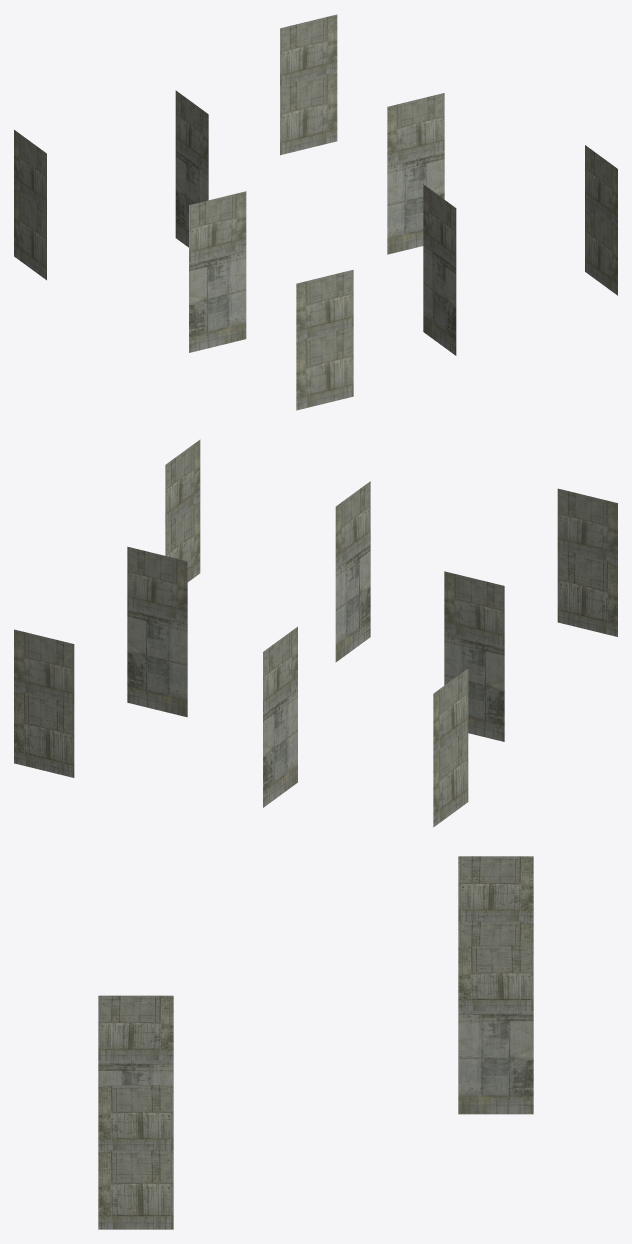
Rendered from SM_LDFest_02_SHADOW_Windows.fbx.
The picture shows the model from 3 angles, top to bottom: view 1: azimuth 30°, elevation 25°; view 2: azimuth 150°, elevation 25°; view 3: azimuth 270°, elevation 25°; orthographic projection. The views are drawn at different scales.
Parts seen in each view (by area): view 1: SM_LDFest_02_SHADOW.005, SM_LDFest_02_SHADOW.009, SM_LDFest_02_SHADOW.008, SM_LDFest_02_SHADOW_Windows, SM_LDFest_02_SHADOW.011, SM_LDFest_02_SHADOW.006, SM_LDFest_02_SHADOW.010, SM_LDFest_02_SHADOW.007; view 2: SM_LDFest_02_SHADOW.009, SM_LDFest_02_SHADOW.005, SM_LDFest_02_SHADOW.008, SM_LDFest_02_SHADOW_Windows, SM_LDFest_02_SHADOW.011, SM_LDFest_02_SHADOW.007, SM_LDFest_02_SHADOW.006, SM_LDFest_02_SHADOW.010; view 3: SM_LDFest_02_SHADOW.007, SM_LDFest_02_SHADOW.010, SM_LDFest_02_SHADOW.011, SM_LDFest_02_SHADOW.006.
Part boxes in pixels (x1,y1,x2,y2): SM_LDFest_02_SHADOW.005: [189, 191, 246, 352]; SM_LDFest_02_SHADOW.009: [387, 93, 444, 254]; SM_LDFest_02_SHADOW.008: [280, 14, 337, 155]; SM_LDFest_02_SHADOW_Windows: [296, 269, 353, 410]; SM_LDFest_02_SHADOW.011: [423, 184, 456, 355]; SM_LDFest_02_SHADOW.006: [14, 130, 46, 280]; SM_LDFest_02_SHADOW.010: [585, 145, 617, 295]; SM_LDFest_02_SHADOW.007: [175, 90, 208, 247]; SM_LDFest_02_SHADOW.009: [127, 546, 187, 717]; SM_LDFest_02_SHADOW.005: [444, 571, 504, 741]; SM_LDFest_02_SHADOW.008: [14, 629, 74, 777]; SM_LDFest_02_SHADOW_Windows: [557, 488, 617, 636]; SM_LDFest_02_SHADOW.011: [335, 481, 370, 662]; SM_LDFest_02_SHADOW.007: [263, 626, 297, 807]; SM_LDFest_02_SHADOW.006: [433, 668, 468, 827]; SM_LDFest_02_SHADOW.010: [165, 439, 200, 581]; SM_LDFest_02_SHADOW.007: [458, 946, 533, 1114]; SM_LDFest_02_SHADOW.010: [98, 1085, 173, 1229]; SM_LDFest_02_SHADOW.011: [98, 995, 173, 1085]; SM_LDFest_02_SHADOW.006: [458, 856, 533, 945].
Bounding box in the file's own units: 2519 × 863 × 2809.
